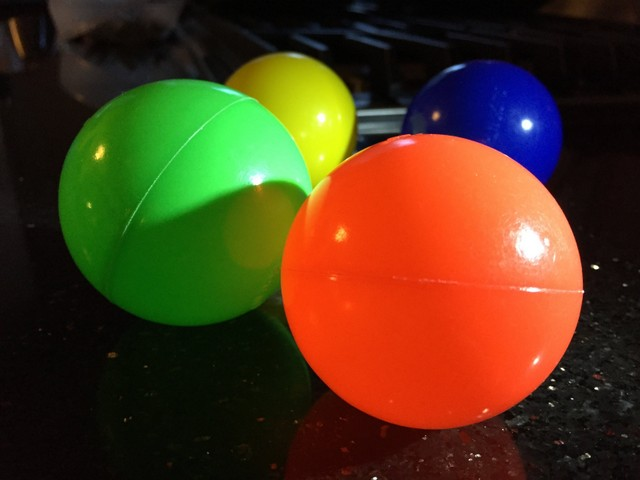ball: (222, 51, 357, 195)
